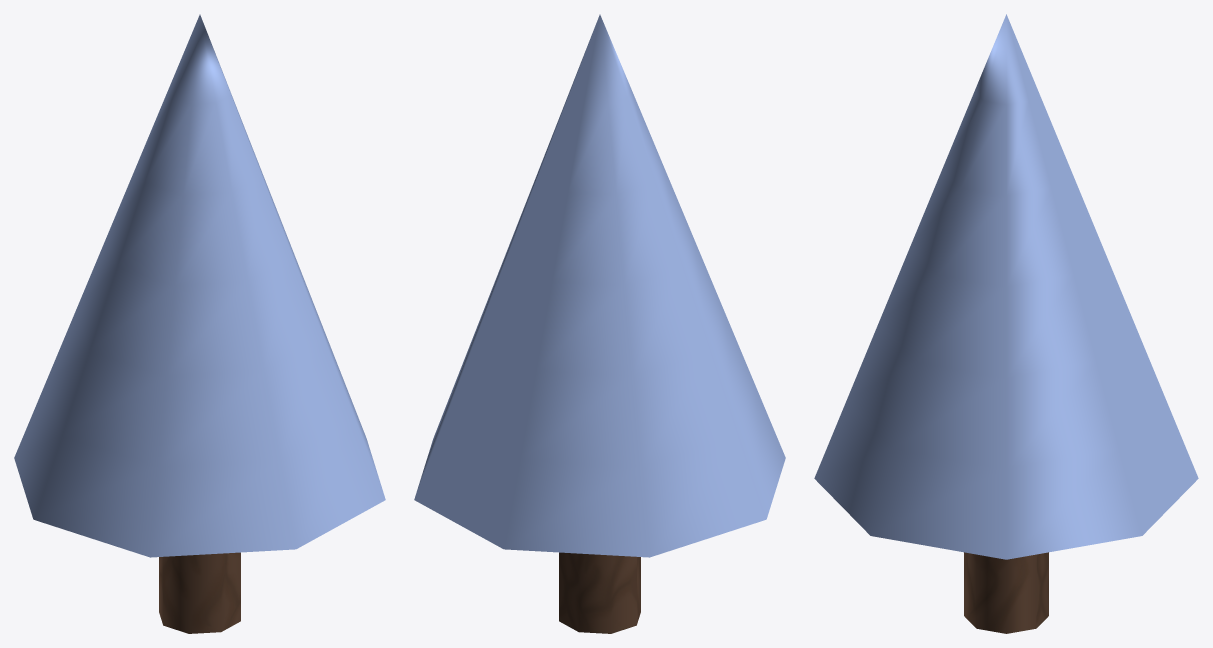
File: TreeS.fbx
The picture shows the model from 3 angles, left to right: view 1: azimuth 30°, elevation 25°; view 2: azimuth 150°, elevation 25°; view 3: azimuth 270°, elevation 25°; orthographic projection.
Parts seen in each view (by area): view 1: TreeS_pCone1; view 2: TreeS_pCone1; view 3: TreeS_pCone1.
Boxes of the visible parts, box(x1,y1,x2,y2) form: TreeS_pCone1: box(14, 14, 385, 633); TreeS_pCone1: box(414, 14, 785, 633); TreeS_pCone1: box(814, 14, 1198, 633).
Size of the model in its own units: 6 by 10.37 by 6.
1 material, 1 textured.
